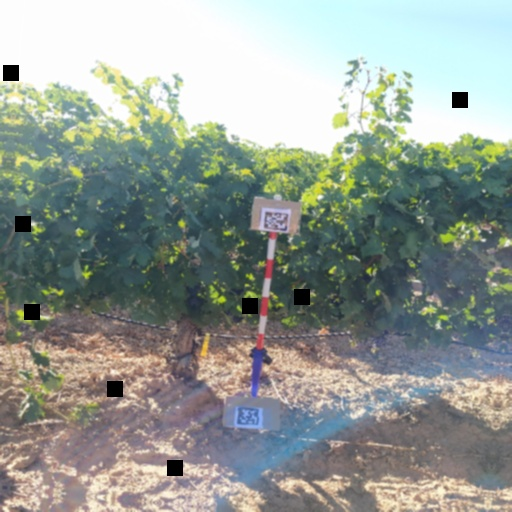QR: (263, 211, 289, 232), (236, 407, 262, 427)
